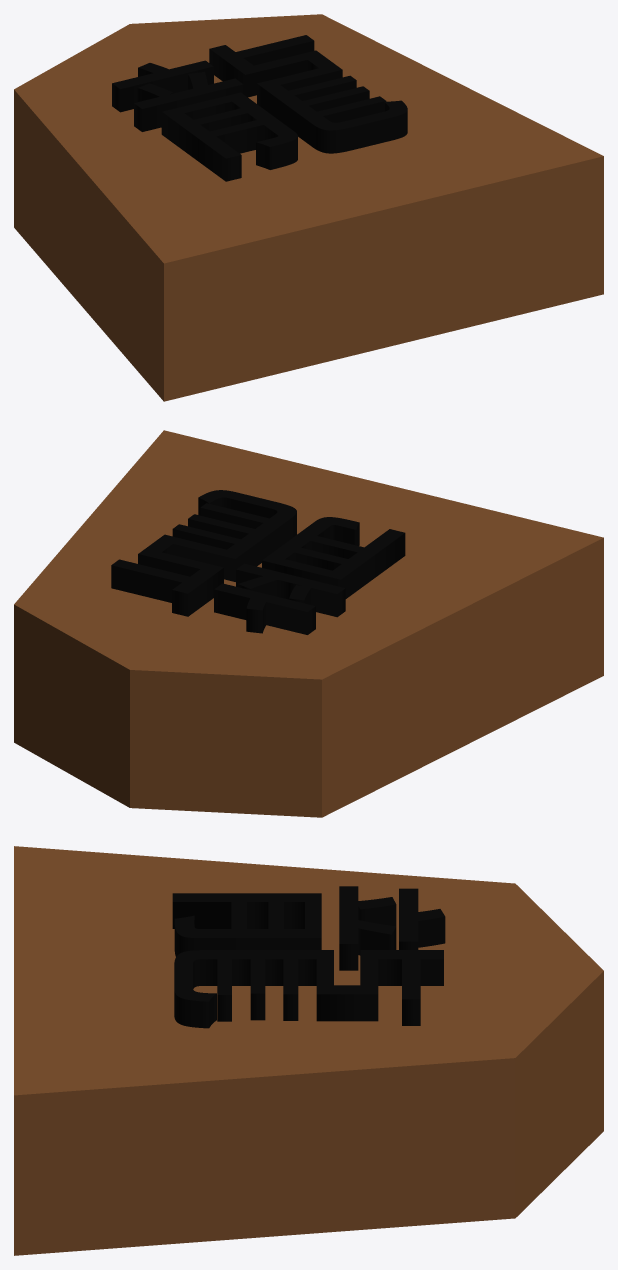
File: Ryu.fbx
The picture shows the model from 3 angles, top to bottom: view 1: azimuth 30°, elevation 25°; view 2: azimuth 150°, elevation 25°; view 3: azimuth 270°, elevation 25°; orthographic projection. The views are drawn at different scales.
Parts seen in each view (by area): view 1: Cube, テキスト; view 2: Cube, テキスト; view 3: Cube, テキスト.
Part boxes in pixels (bbox=[...]): Cube: bbox=[14, 14, 603, 401]; テキスト: bbox=[112, 35, 407, 181]; Cube: bbox=[14, 430, 603, 817]; テキスト: bbox=[111, 490, 405, 634]; Cube: bbox=[14, 846, 603, 1255]; テキスト: bbox=[172, 886, 445, 1028].
Size of the model in its own units: 200 by 70 by 200.
